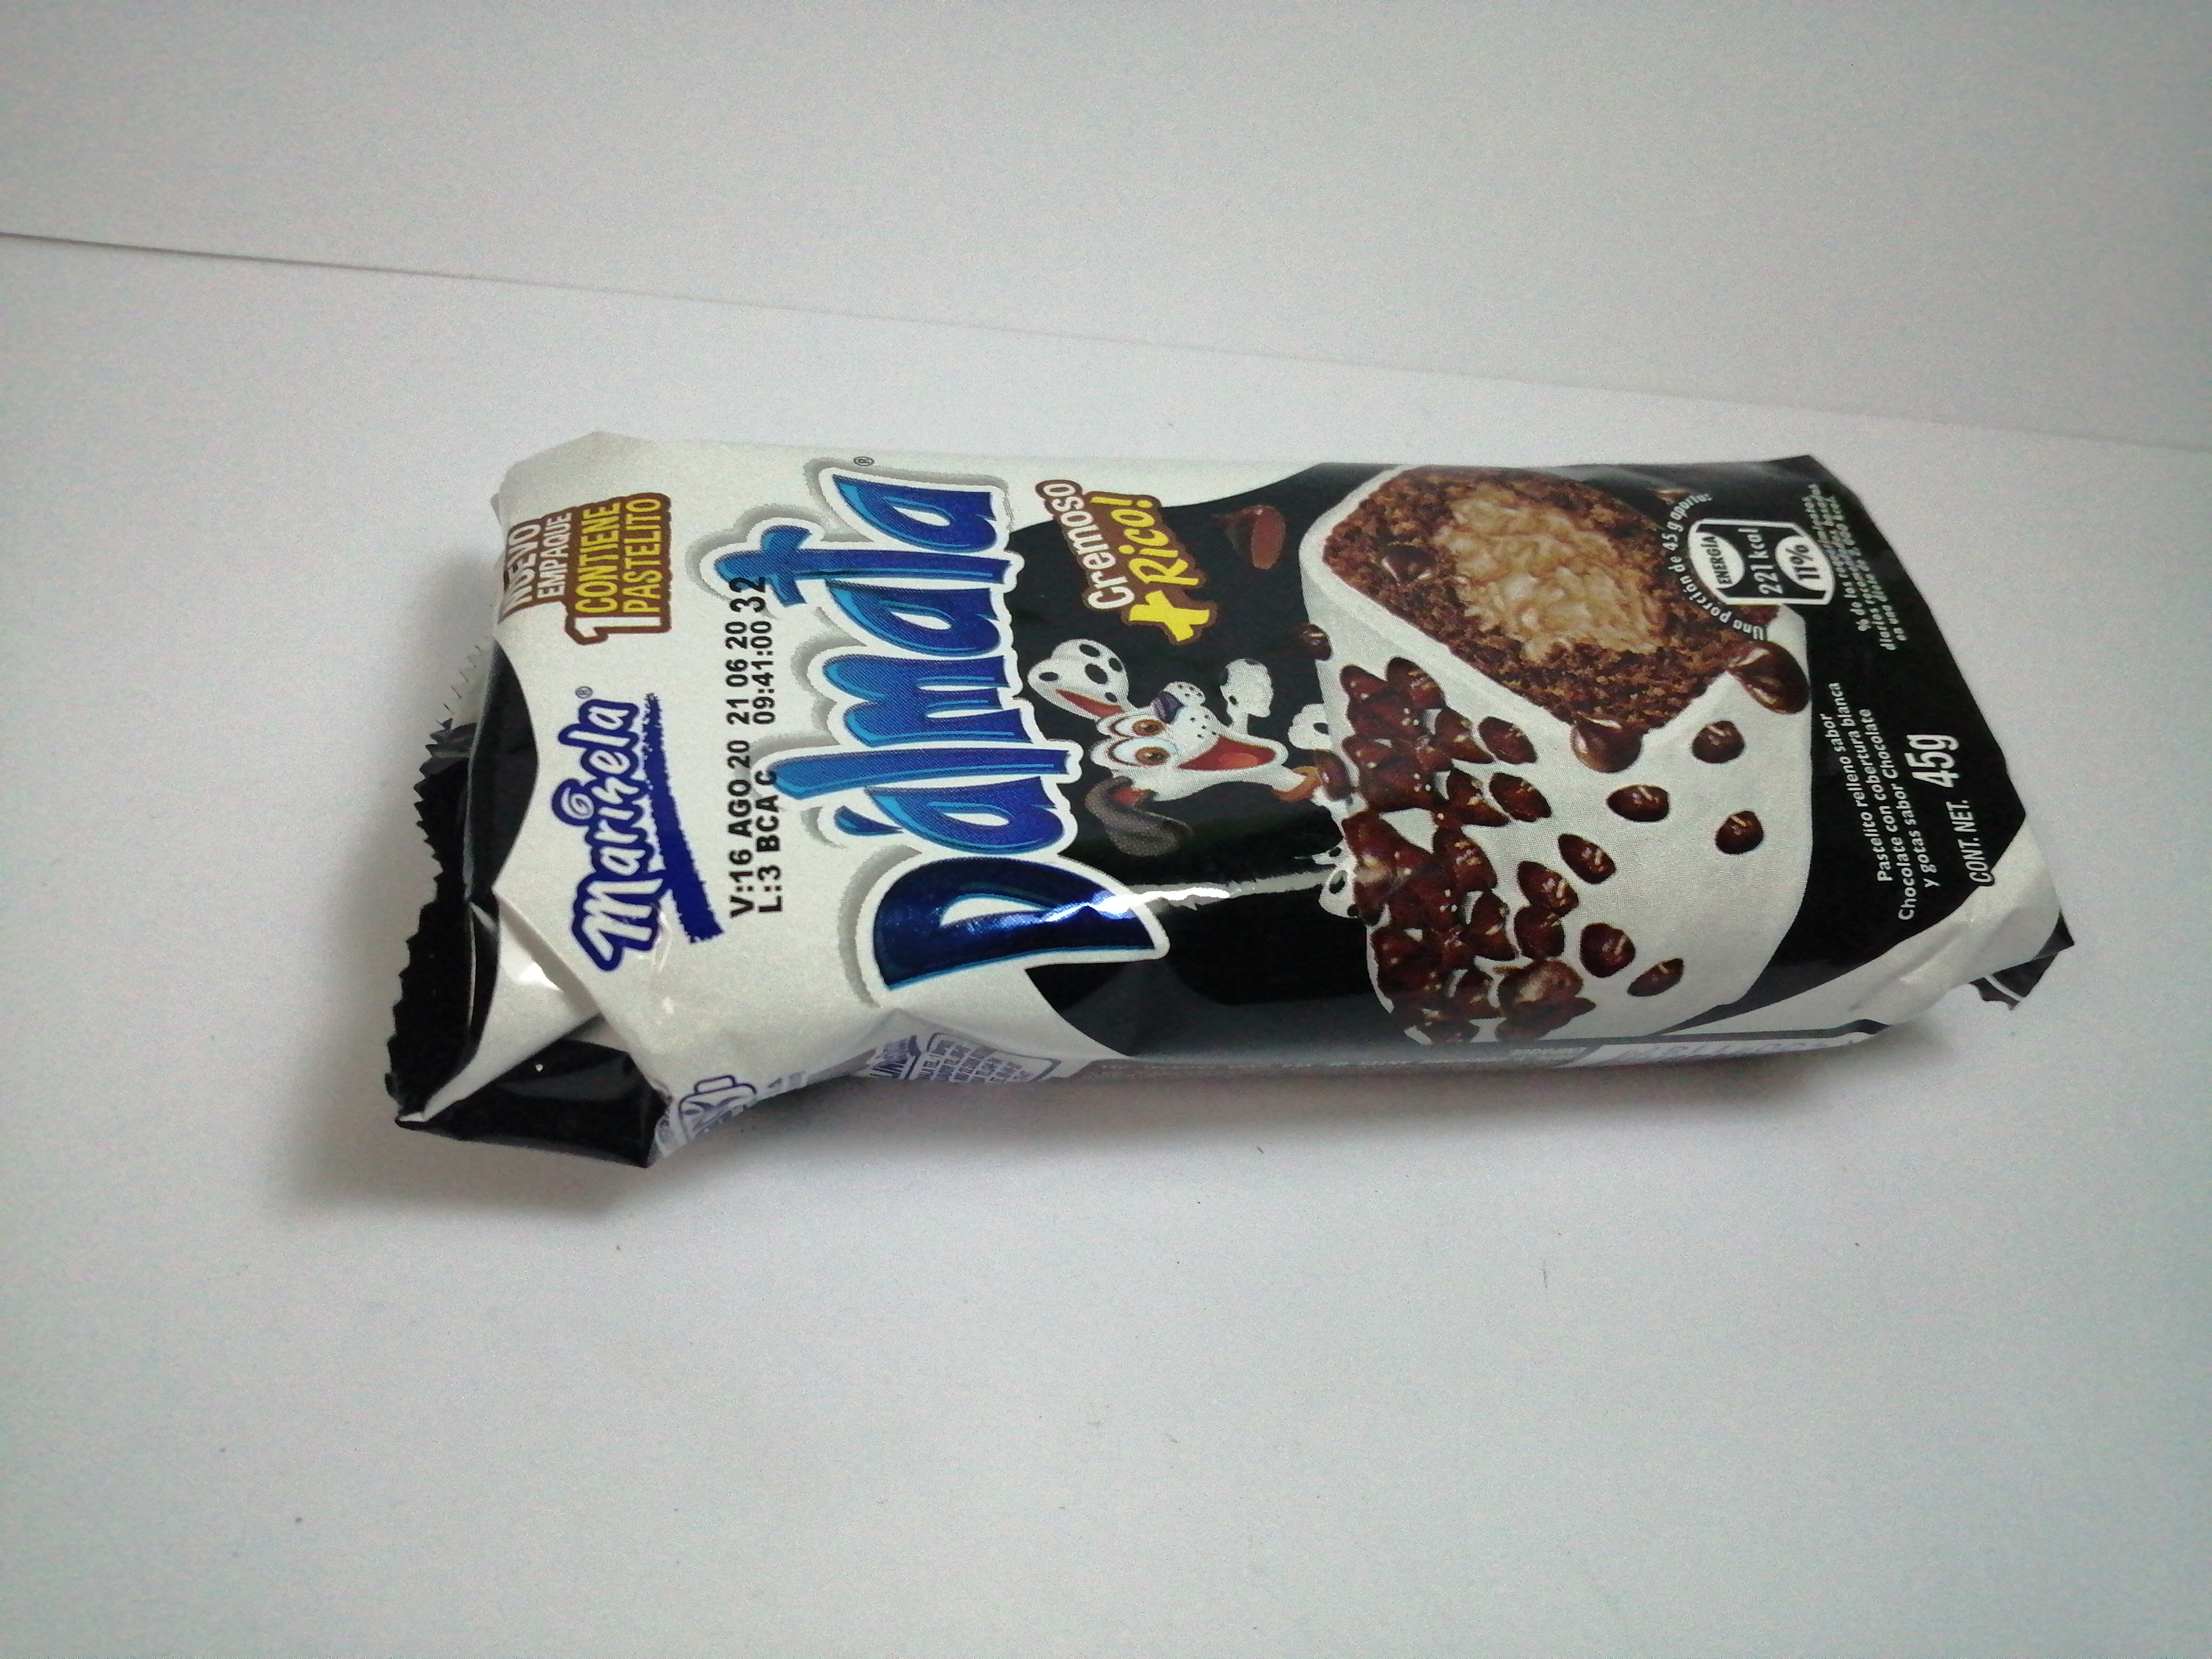dalmata: (380, 396, 2101, 1188)
